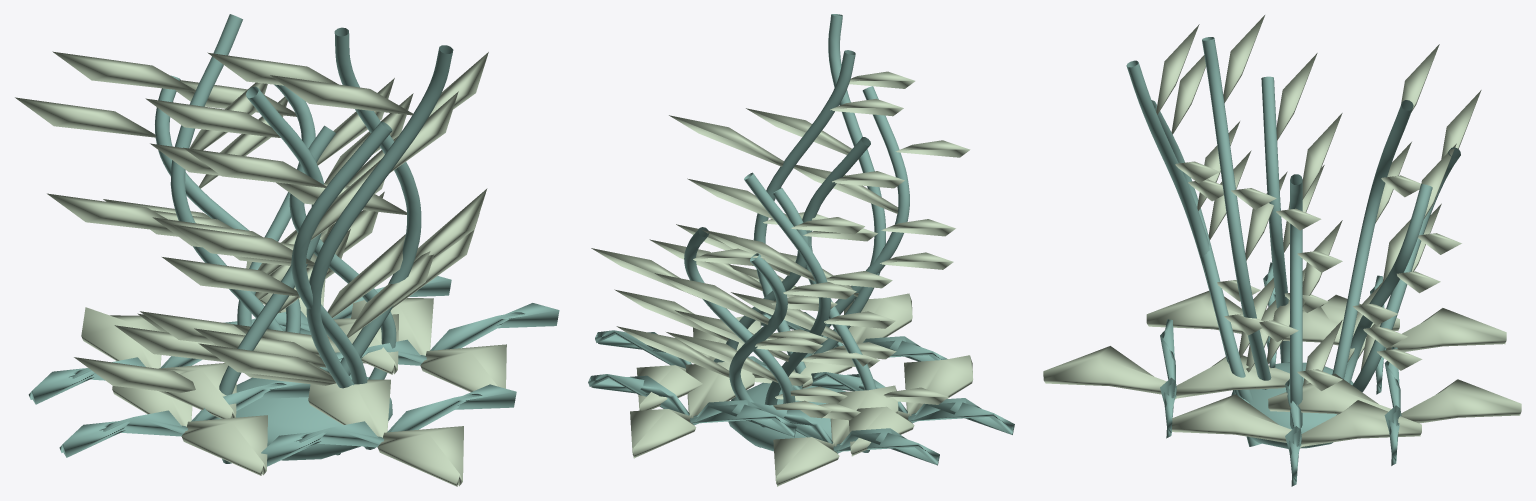
File: bio_aquatic_frond_10_far.glb
3 renders of one model, left to right at view 1: azimuth 30°, elevation 25°; view 2: azimuth 150°, elevation 25°; view 3: azimuth 270°, elevation 25°, orthographic. The views are drawn at different scales.
Parts seen in each view (by area): view 1: Ruffled aquatic blade.010, Ruffled aquatic blade.035, Ruffled aquatic blade.005, Ruffled aquatic blade.025, Ruffled aquatic blade.020, Low buttress leaf.009, Flexible stipe.002, Low buttress leaf.017, Low buttress leaf.001, Low buttress leaf.005, Ruffled aquatic blade.015, Ruffled aquatic blade.030 (+15 smaller); view 2: Ruffled aquatic blade.030, Ruffled aquatic blade.005, Ruffled aquatic blade.020, Ruffled aquatic blade.025, Low buttress leaf.013, Ruffled aquatic blade.015, Low buttress leaf.017, Low buttress leaf.005, Ruffled aquatic blade.010, Low buttress leaf.012, Ruffled aquatic blade.035, Ruffled aquatic blade (+15 smaller); view 3: Low buttress leaf.001, Low buttress leaf.009, Low buttress leaf.013, Flexible stipe.005, Low buttress leaf.005, Flexible stipe.001, Ruffled aquatic blade, Ruffled aquatic blade.025, Ruffled aquatic blade.010, Flexible stipe.004, Ruffled aquatic blade.035, Flexible stipe.002 (+13 smaller).
Boxes of the visible parts, x1,y1,x2,y2 form: Ruffled aquatic blade.010: (172,75,458,383); Ruffled aquatic blade.035: (162,147,433,385); Ruffled aquatic blade.005: (47,51,328,343); Ruffled aquatic blade.025: (194,52,488,367); Ruffled aquatic blade.020: (74,93,413,393); Low buttress leaf.009: (308,379,463,486); Flexible stipe.002: (306,45,453,449); Low buttress leaf.017: (112,360,267,475); Low buttress leaf.001: (351,298,506,392); Low buttress leaf.005: (81,307,236,418); Ruffled aquatic blade.015: (114,78,394,361); Ruffled aquatic blade.030: (15,96,384,332); Ruffled aquatic blade.030: (616,273,856,418); Ruffled aquatic blade.005: (675,217,895,403); Ruffled aquatic blade.020: (687,171,948,404); Ruffled aquatic blade.025: (649,98,903,366); Low buttress leaf.013: (630,362,754,458); Ruffled aquatic blade.015: (591,248,860,420); Low buttress leaf.017: (849,355,973,456); Low buttress leaf.005: (773,385,898,486); Ruffled aquatic blade.010: (746,71,955,359); Low buttress leaf.012: (588,374,796,437); Ruffled aquatic blade.035: (729,140,970,368); Ruffled aquatic blade: (614,224,877,385); Low buttress leaf.001: (1172,394,1421,447); Low buttress leaf.009: (1043,346,1289,399); Low buttress leaf.013: (1268,373,1521,423); Flexible stipe.005: (1202,37,1271,389); Low buttress leaf.005: (1283,304,1506,351); Flexible stipe.001: (1332,100,1413,379); Ruffled aquatic blade: (1297,113,1342,390); Ruffled aquatic blade.025: (1223,15,1303,364); Ruffled aquatic blade.010: (1156,24,1274,357); Flexible stipe.004: (1261,76,1289,363); Ruffled aquatic blade.035: (1171,55,1287,372); Flexible stipe.002: (1126,60,1261,446).
Size of the model in its own units: 2.22 by 1.89 by 2.09.
